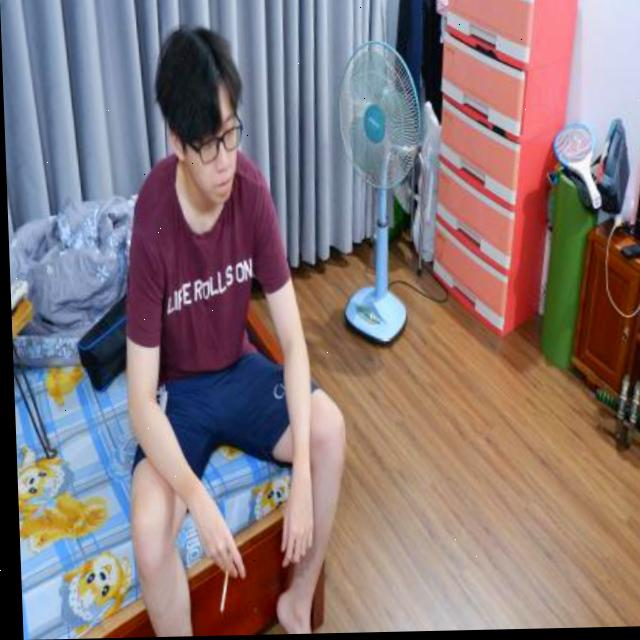cigarette: (213, 570, 226, 617)
